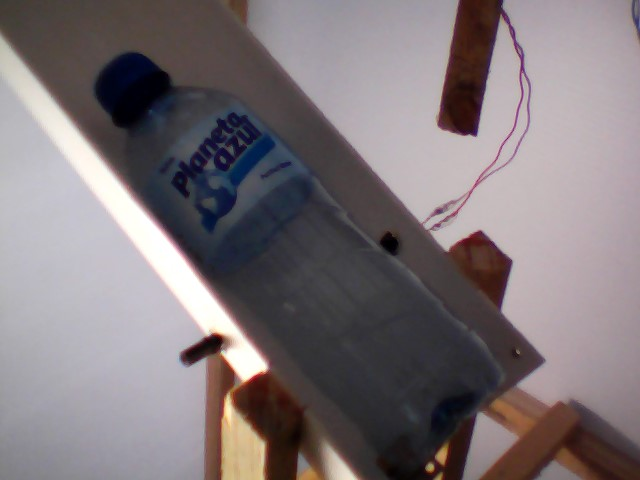plastico: (89, 48, 515, 480)
